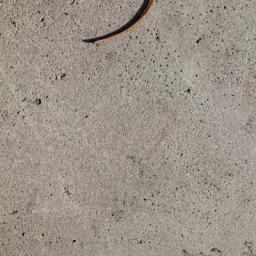FOD: (83, 1, 163, 50)
